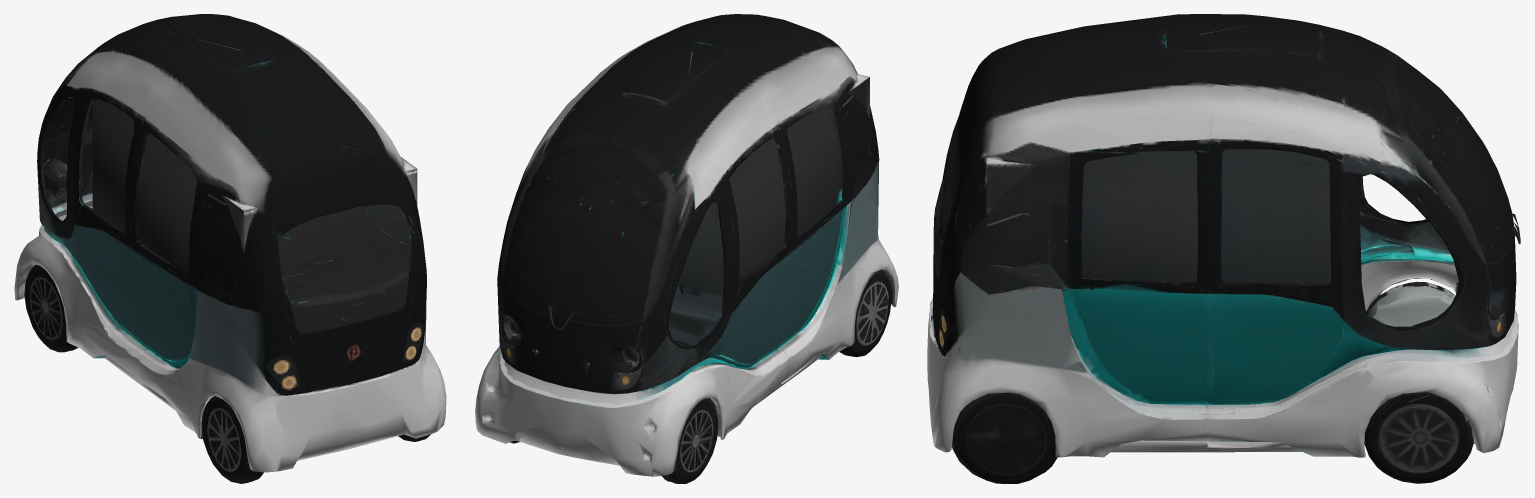
File: teleoperator_dispatchPodPearl.glb
The picture shows the model from 3 angles, left to right: view 1: azimuth 30°, elevation 25°; view 2: azimuth 150°, elevation 25°; view 3: azimuth 270°, elevation 25°; orthographic projection. The views are drawn at different scales.
Size of the model in its own units: 0.9382 by 1.49 by 2.
Materials: 1 (1 with a texture image).
